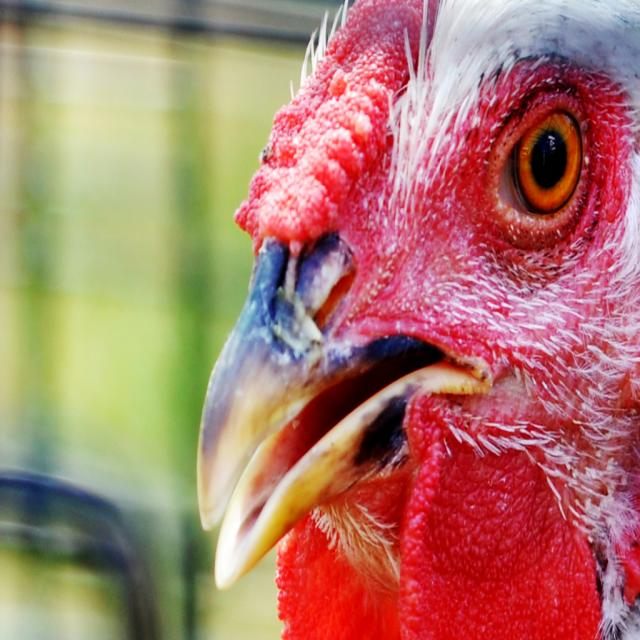Chicken: (197, 0, 640, 640)
